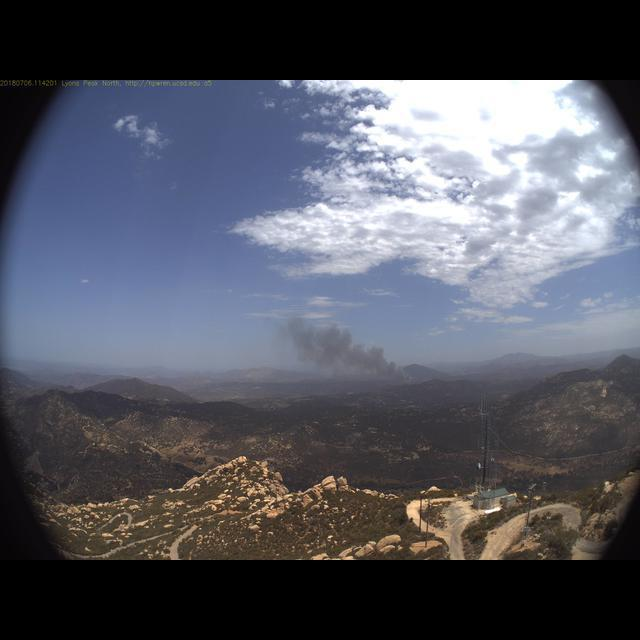Smoke: (274, 311, 419, 387)
